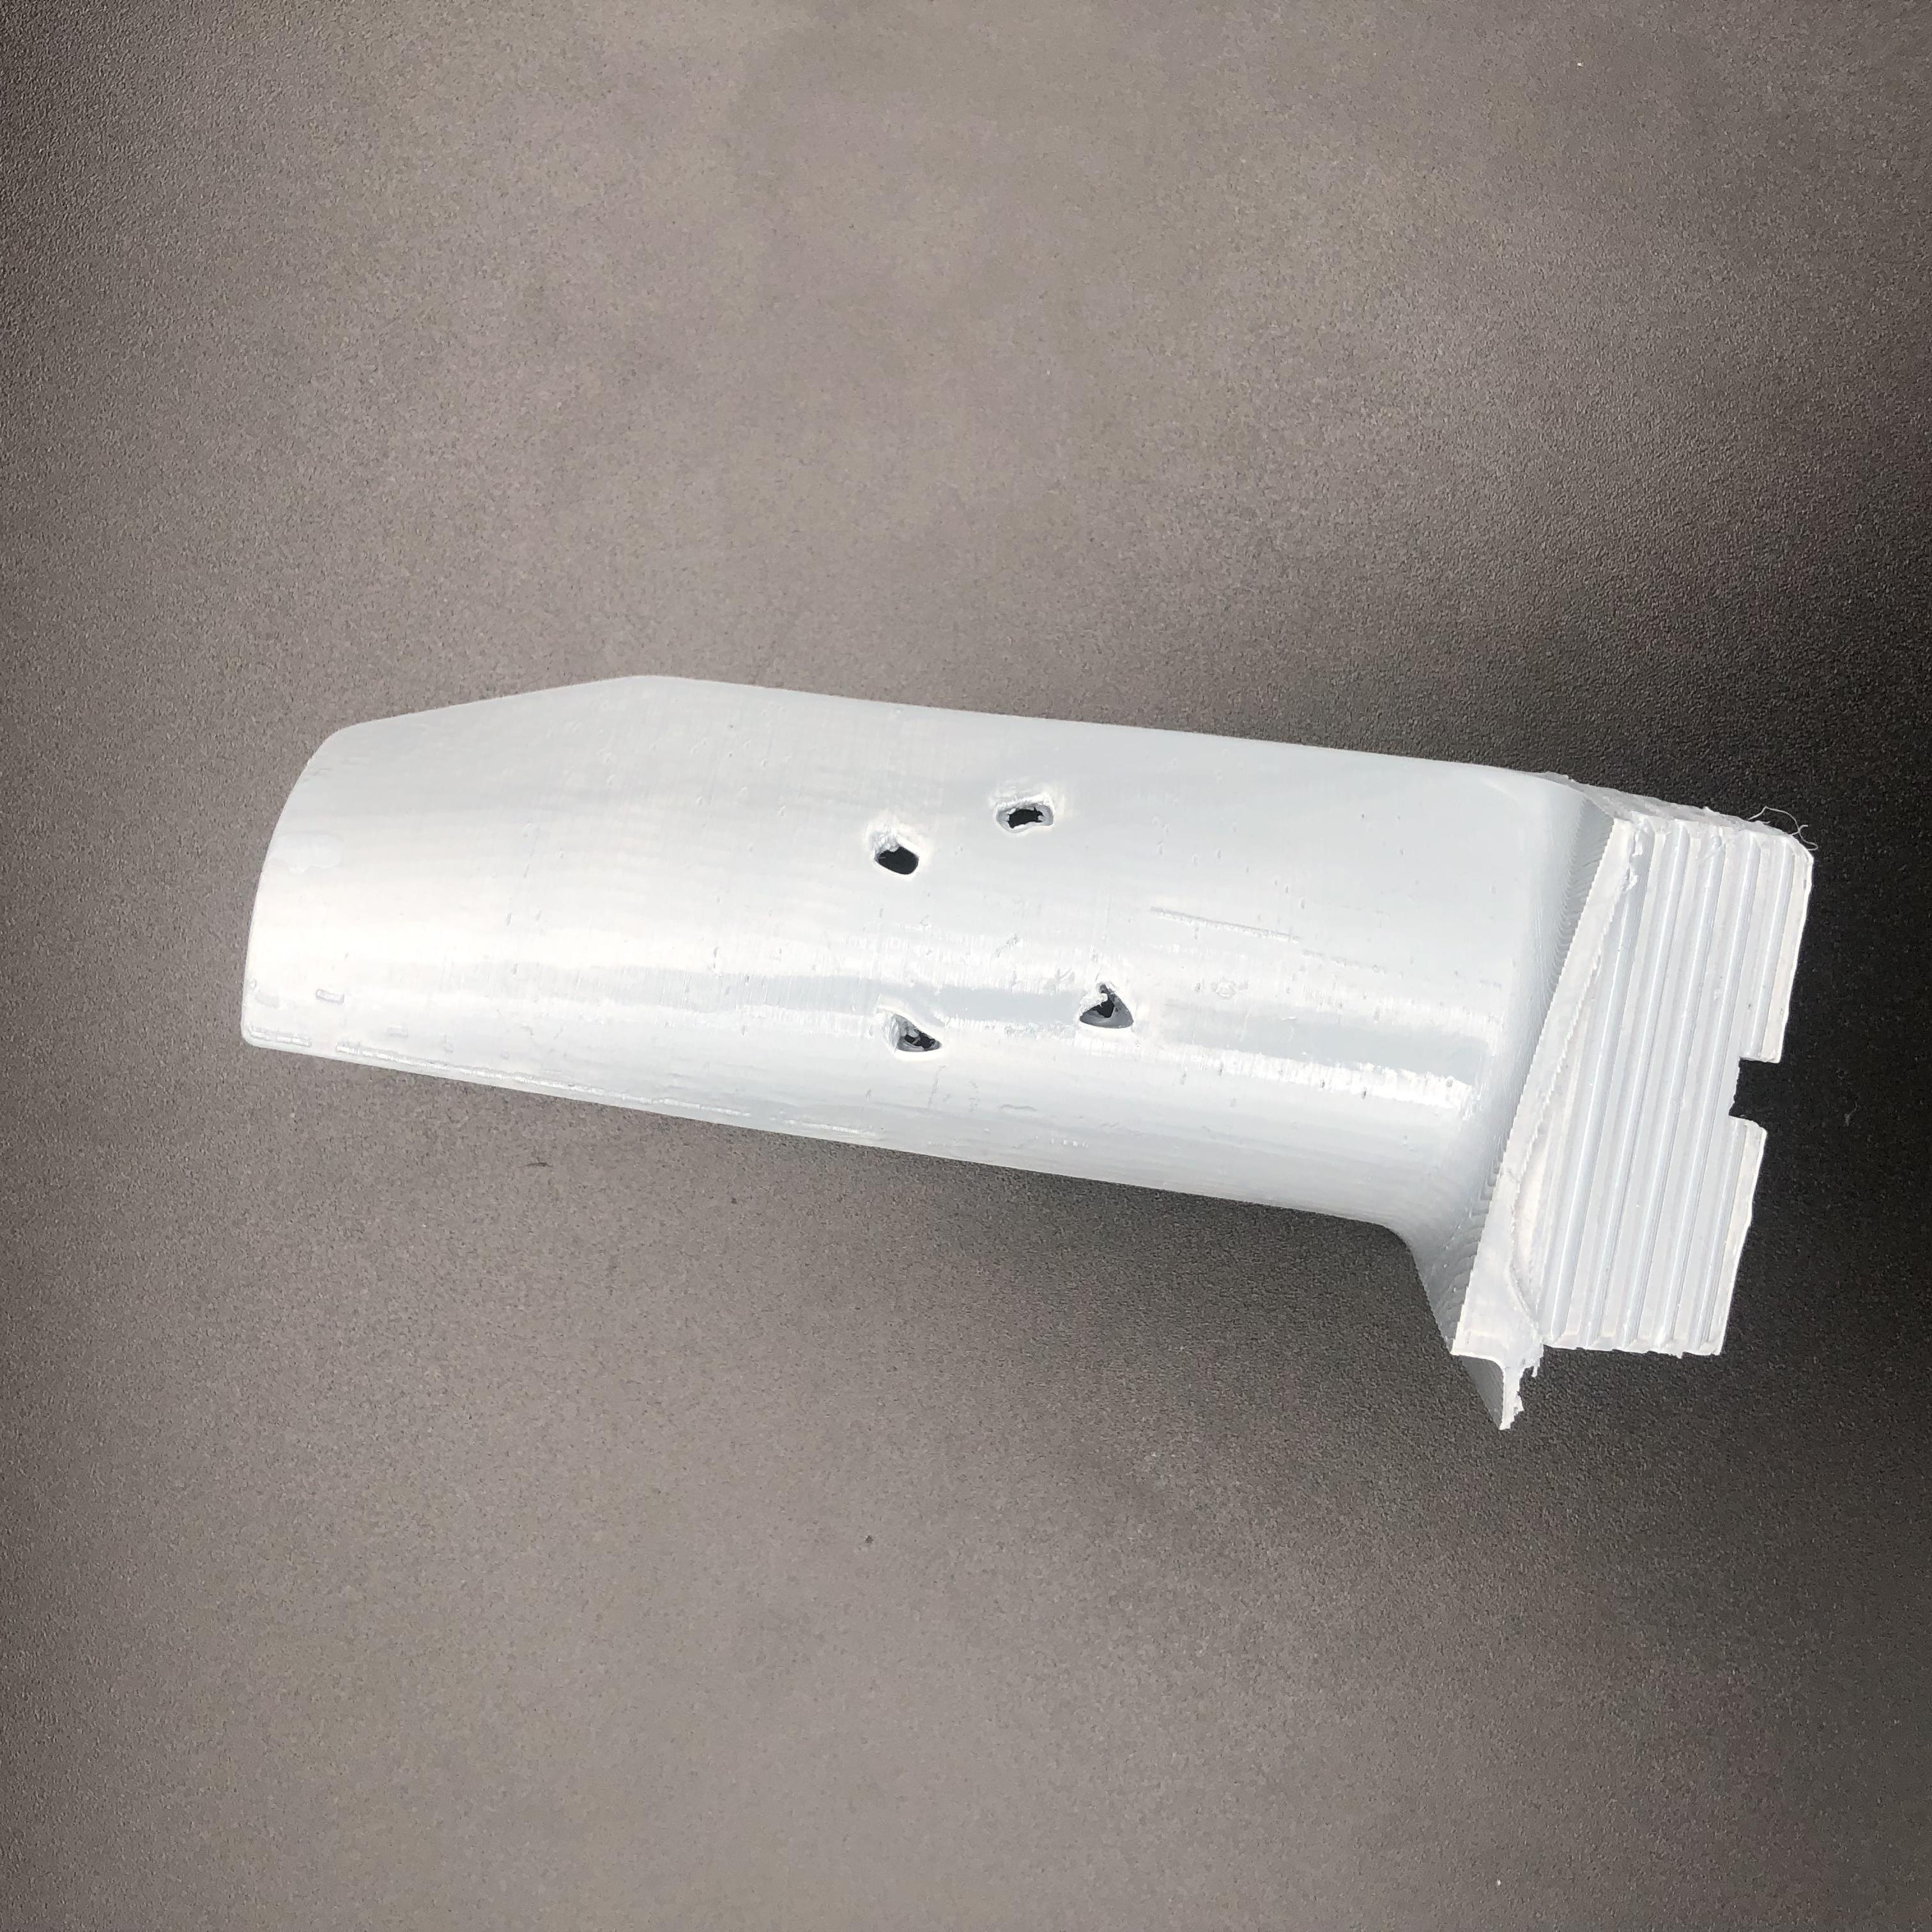breakdown: (865, 798, 1129, 1053)
